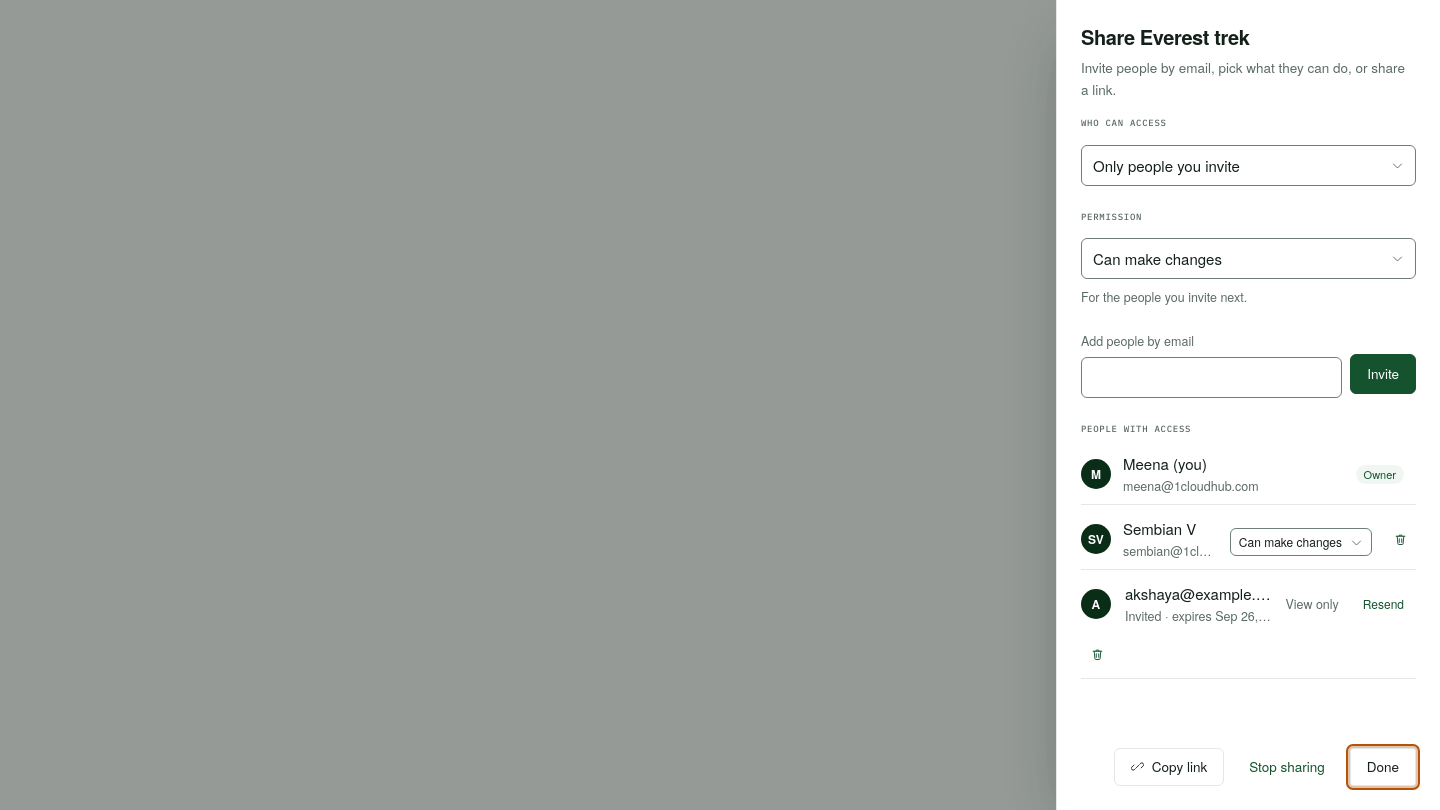
it: ShareSheet › SHARE-02 Invite sends the address at the chosen permission, announces the outcome and refreshes the list; a malformed address is refused in place
Step 1. Type "not an address" into the field labelled "Add people by email" → [1212, 378], box [1081, 357, 1342, 398]
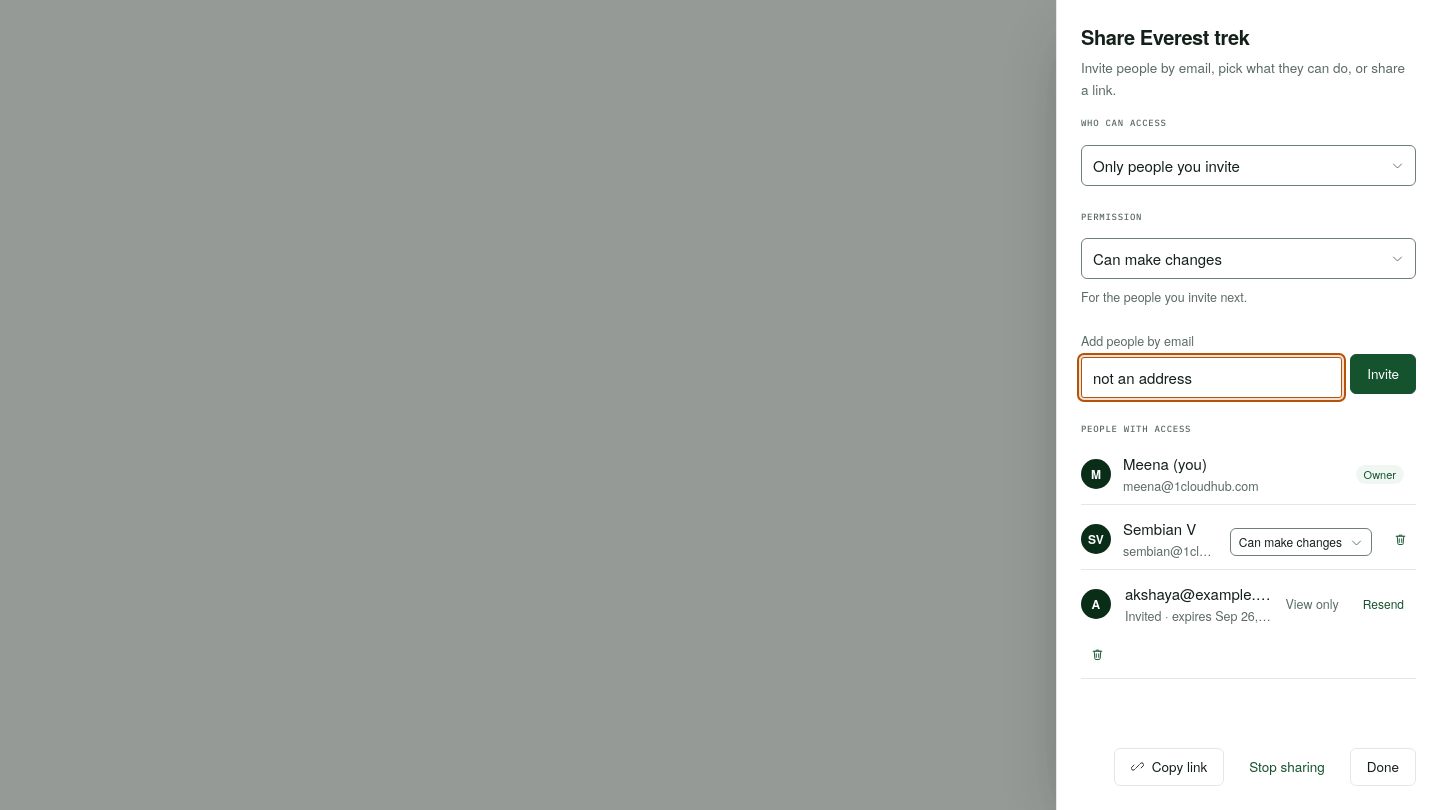
Step 2. Click the button "Invite" → [1383, 374], box [1350, 354, 1416, 394]
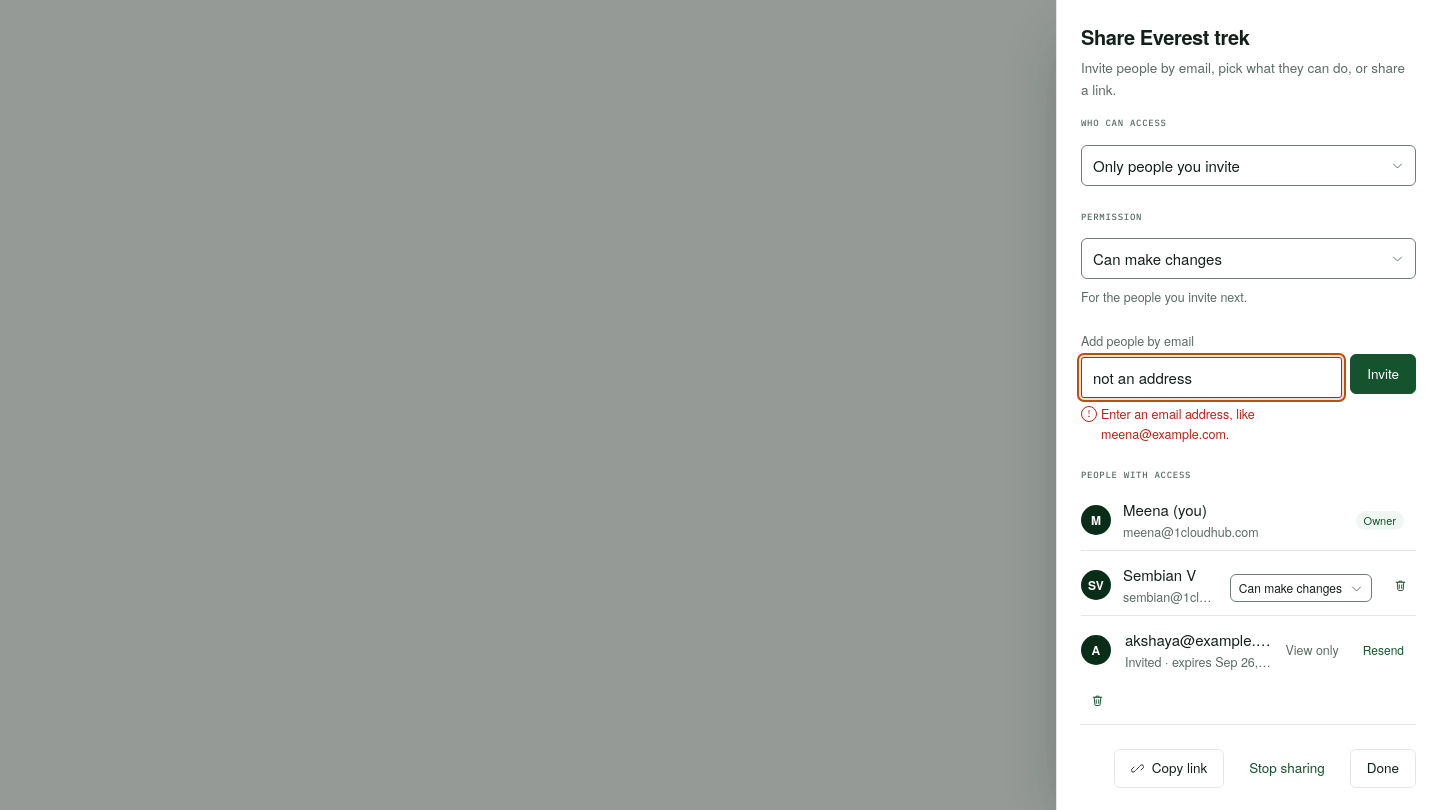
Expected: the message shows "Enter an email address", [1101, 405, 1255, 443]
Step 3. Replace the text in the field labelled "Add people by email" with "vijay@example.com" → [1212, 378], box [1081, 357, 1342, 398]
Then press Enter
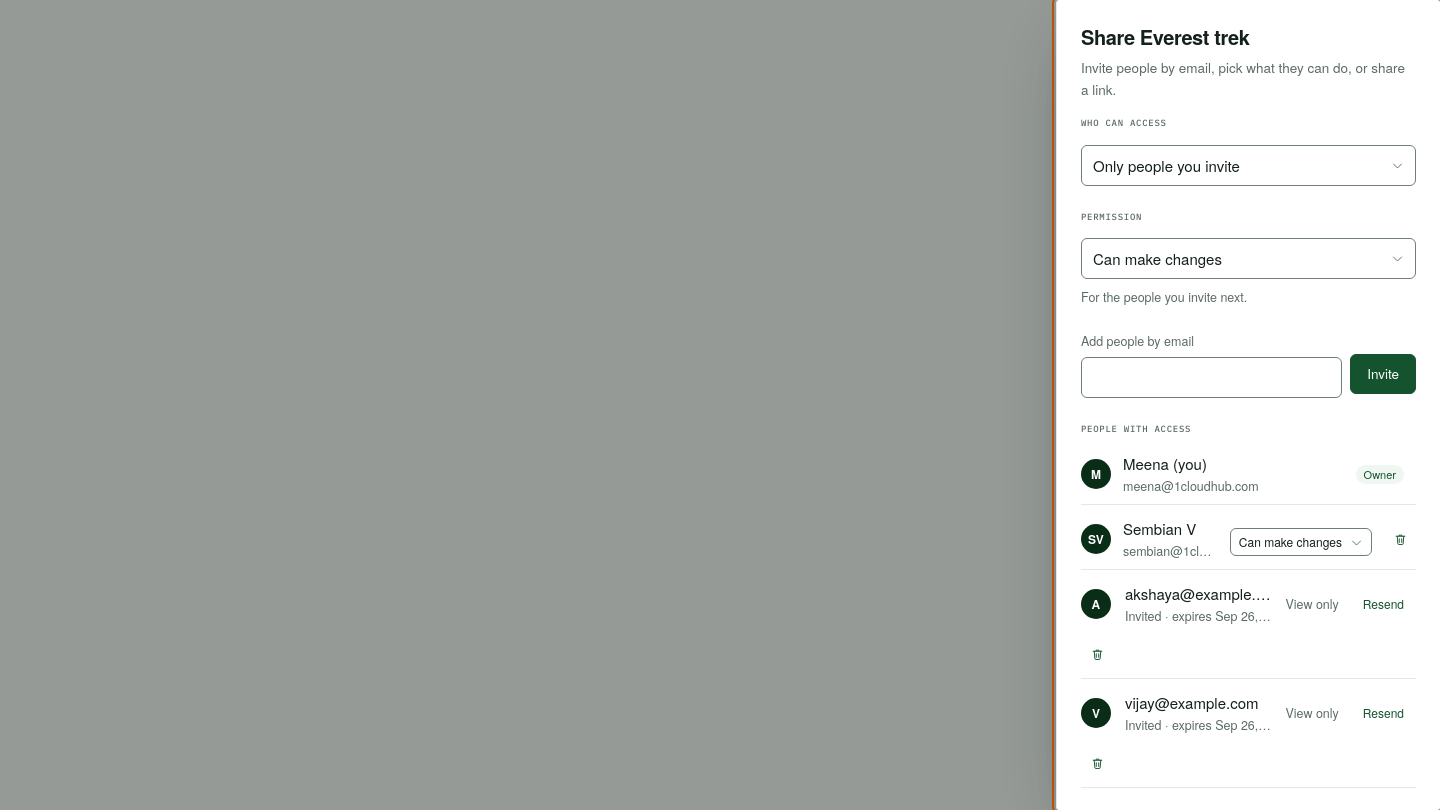
Expected: the text "vijay@example.com" is shown, [1125, 691, 1274, 715]
